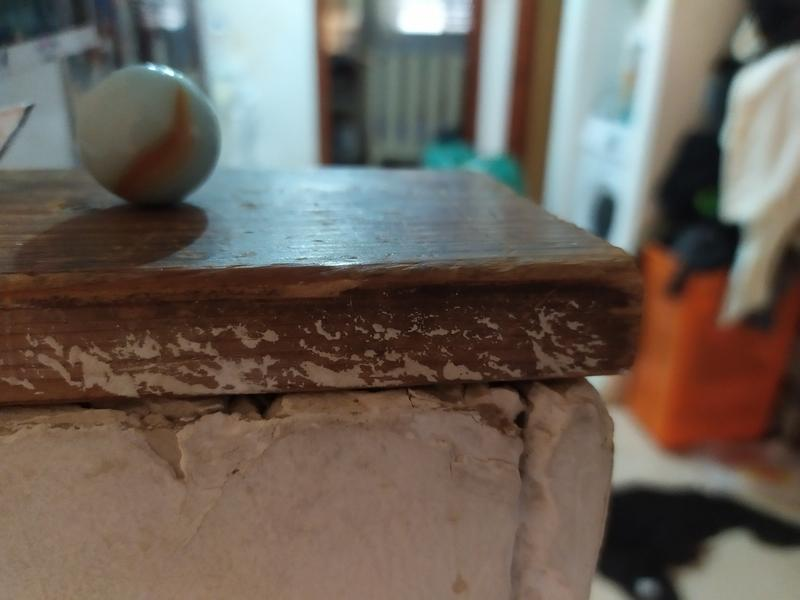Warning: (69, 58, 227, 213)
